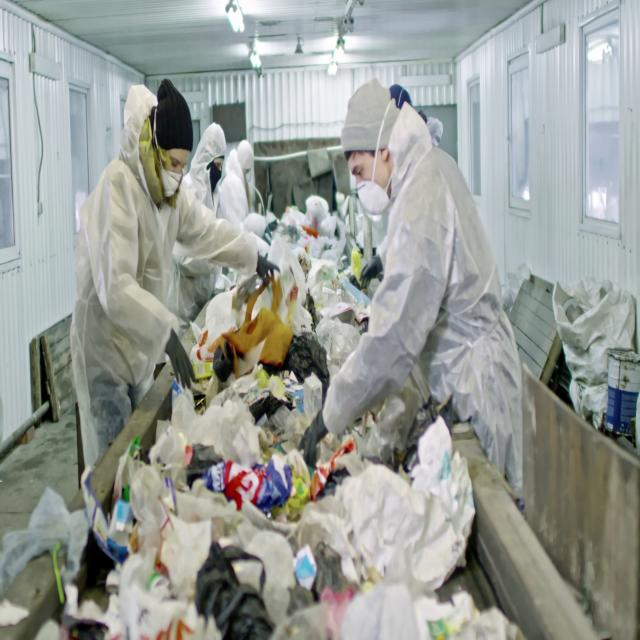gloved: (164, 327, 196, 390), (298, 408, 328, 468), (359, 254, 383, 289), (256, 252, 280, 281)
